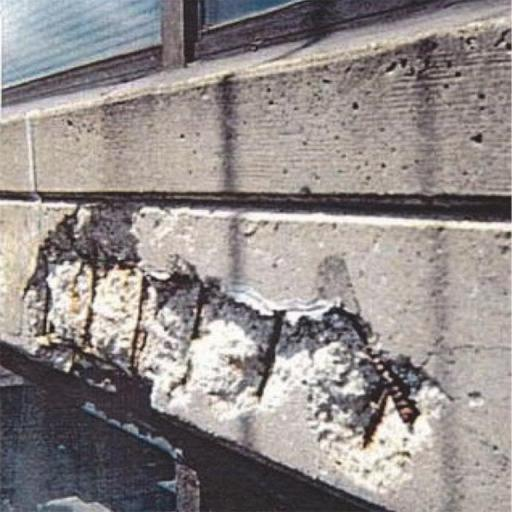spalling: (17, 210, 462, 495)
